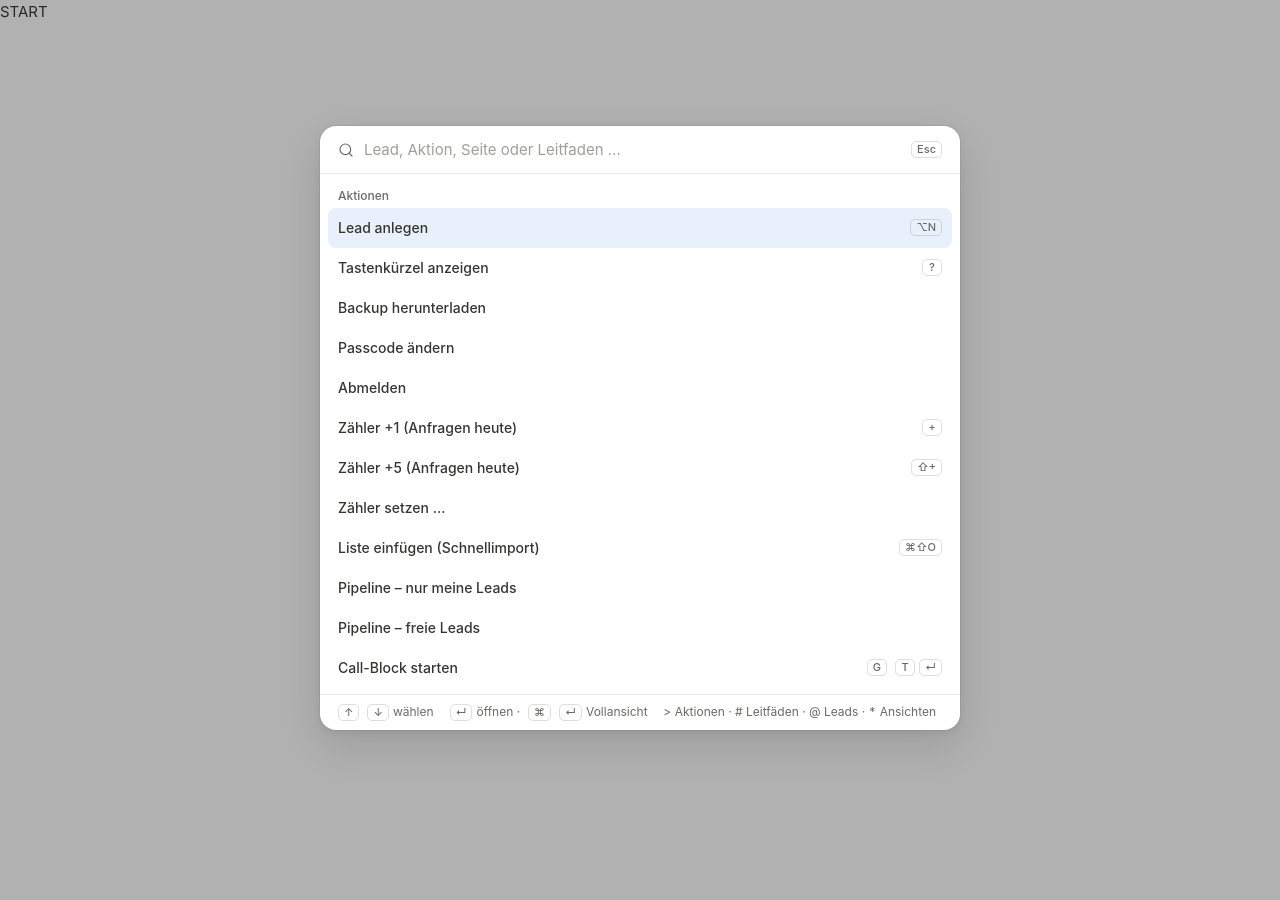
Test case: CommandPalette › Runde 2: solange die Lead-Suche läuft „Suche …“ statt „Nichts gefunden.“
Step 1. Type "qqxx" into the dropdown with placeholder "Lead, Aktion, Seite oder Leitfaden …" → (633, 150), box 364,138 -> 901,161
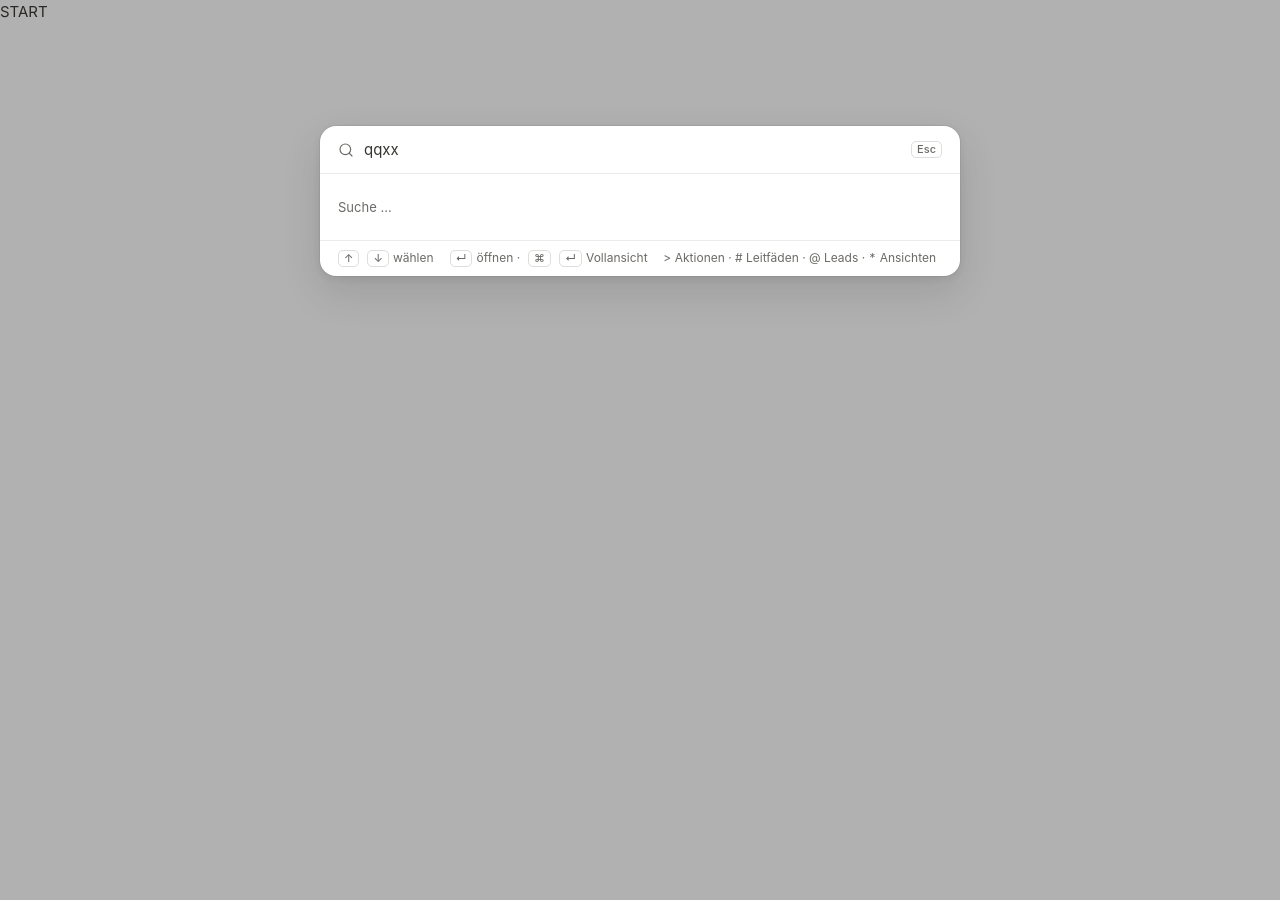
Expected: the text "Suche …" is shown, 338,199 -> 392,215
